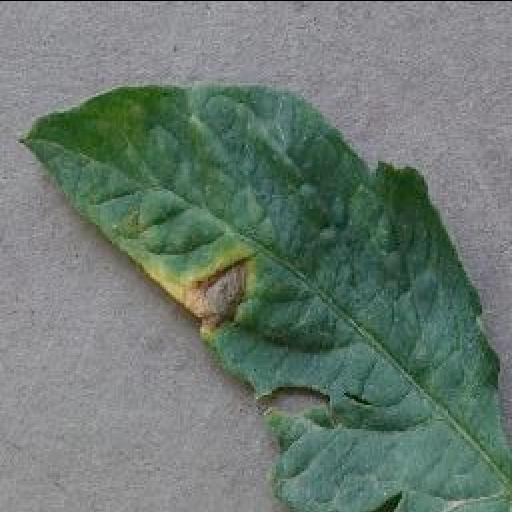disease_tomato: (14, 85, 512, 512)
